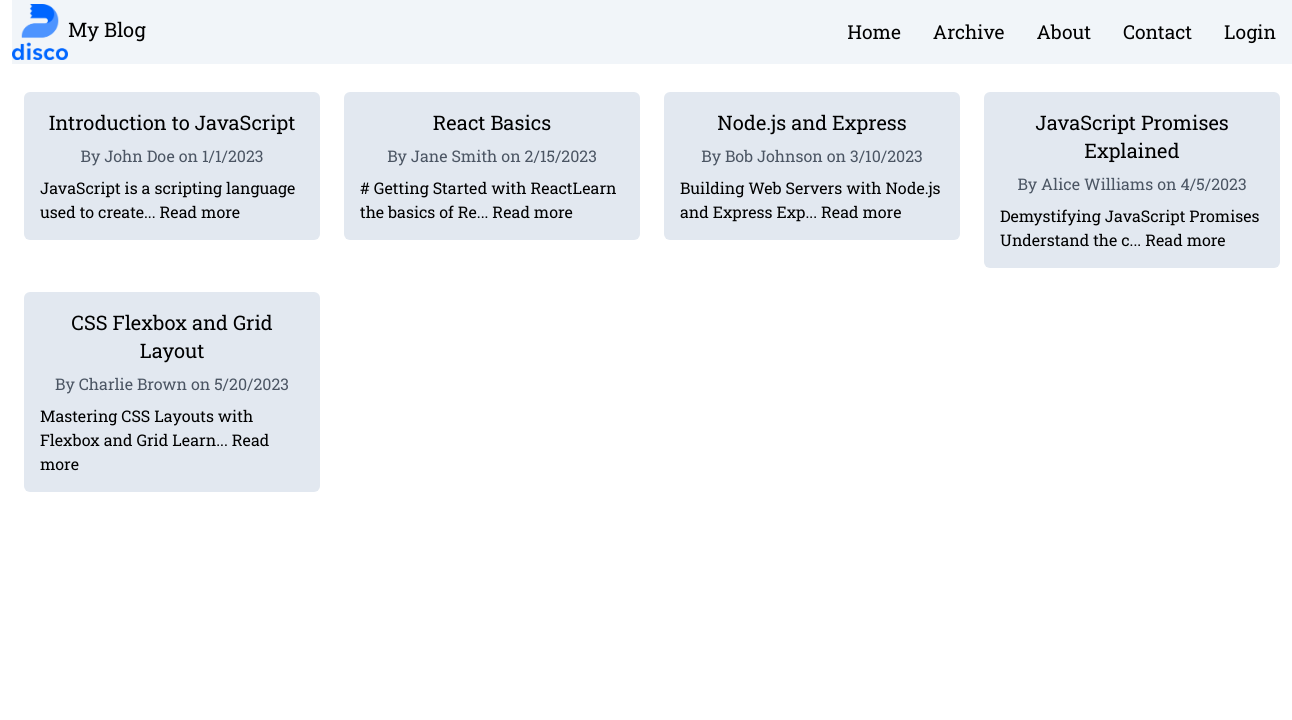
it: BlogDetails Component › loads and displays blog details
This screenshot has width=1292, height=720.
Click the link that starts with "React Basics" at (492, 180), box x1=344 y1=92 x2=640 y2=268
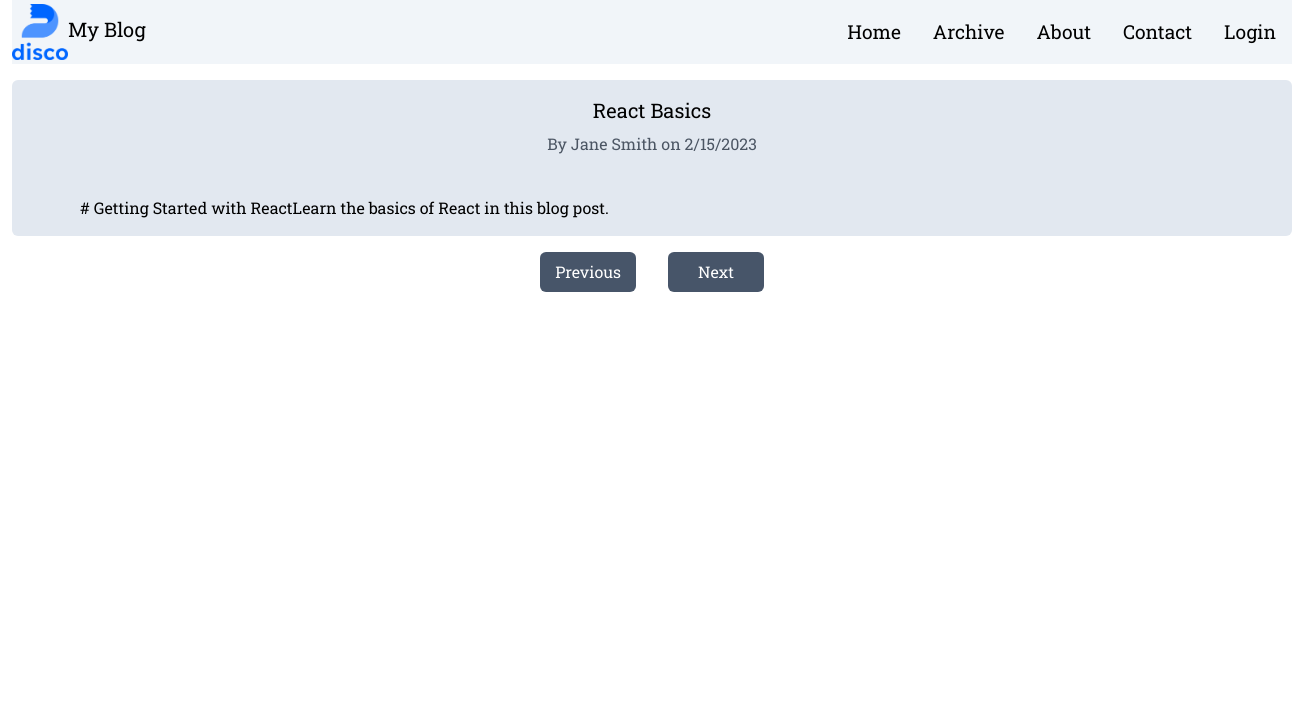
Expected: the button "Next" is shown, x1=668 y1=252 x2=764 y2=292
Expected: the button "Previous" is shown, x1=540 y1=252 x2=636 y2=292
Expected: the element showing "By Jane Smith on 2/15/2023" is shown, x1=547 y1=133 x2=757 y2=154
Open "http://localhost:5173"
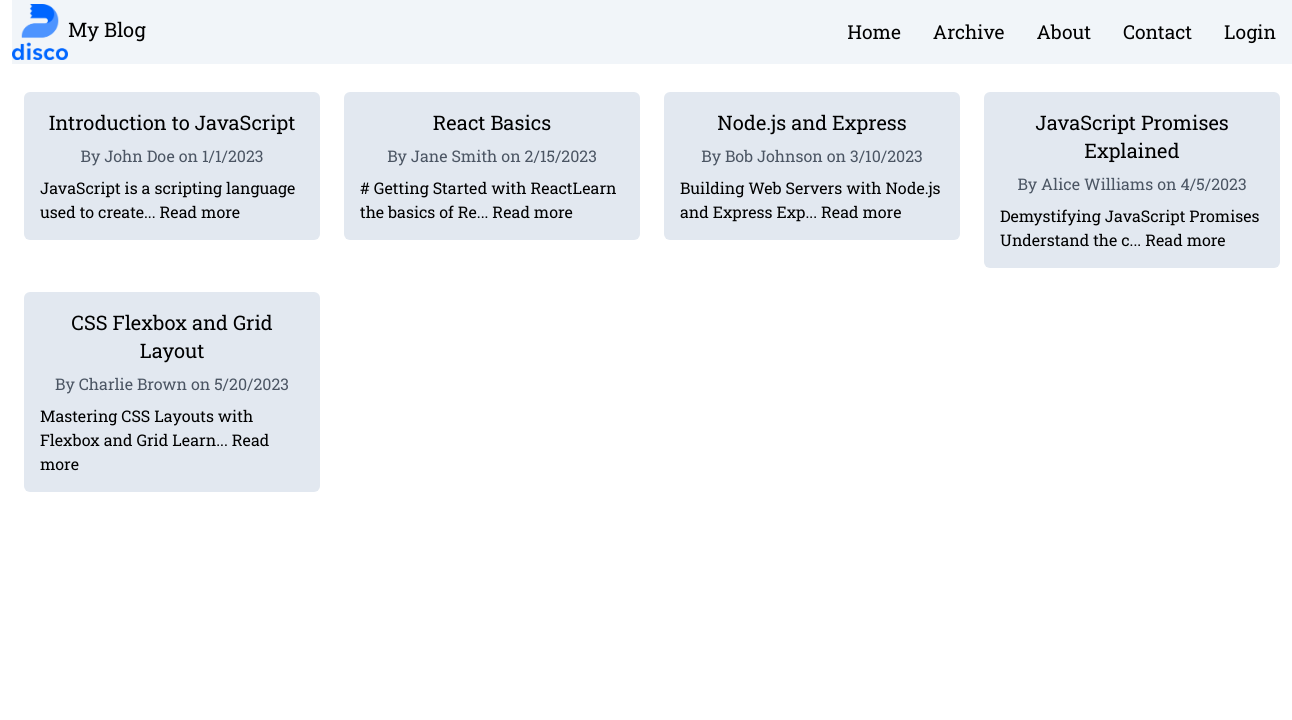
Click the link that starts with "Node.js and Express" at (812, 180), box x1=664 y1=92 x2=960 y2=268
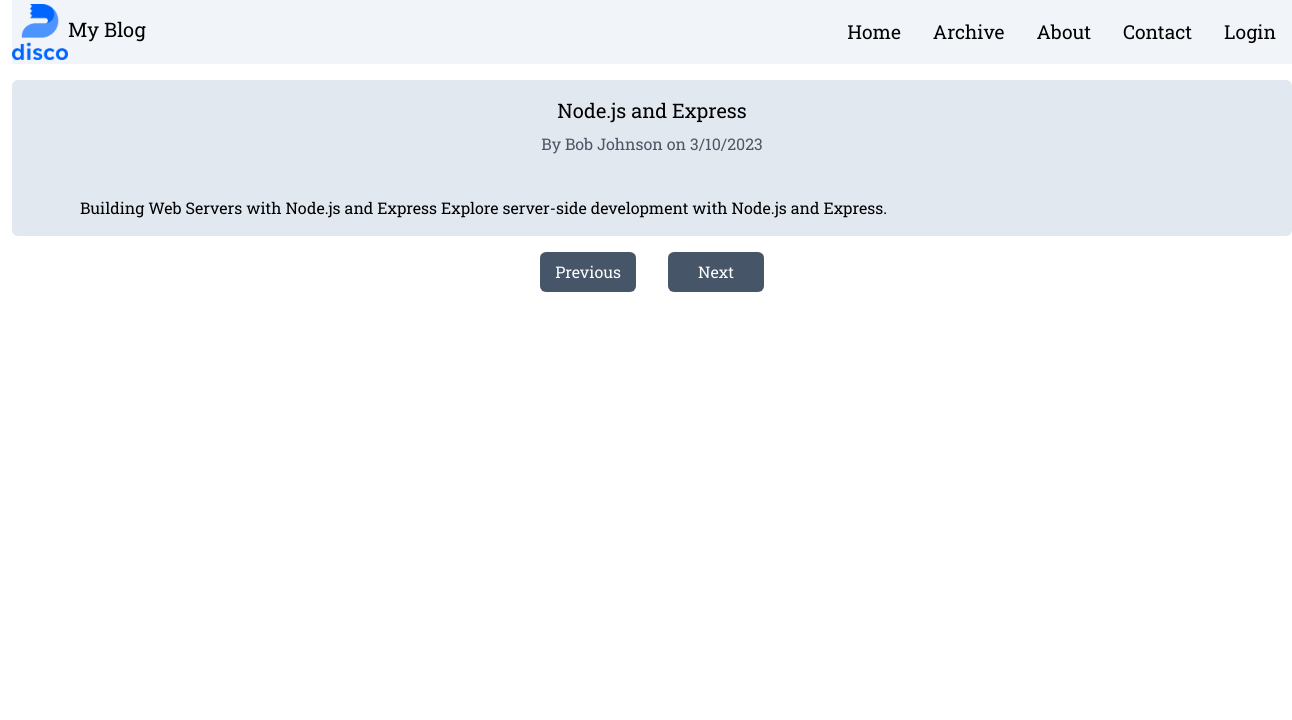
Expected: the button "Next" is shown, x1=668 y1=252 x2=764 y2=292
Expected: the button "Previous" is shown, x1=540 y1=252 x2=636 y2=292
Expected: the element showing "By Bob Johnson on 3/10/2023" is shown, x1=541 y1=133 x2=763 y2=154
Open "http://localhost:5173"
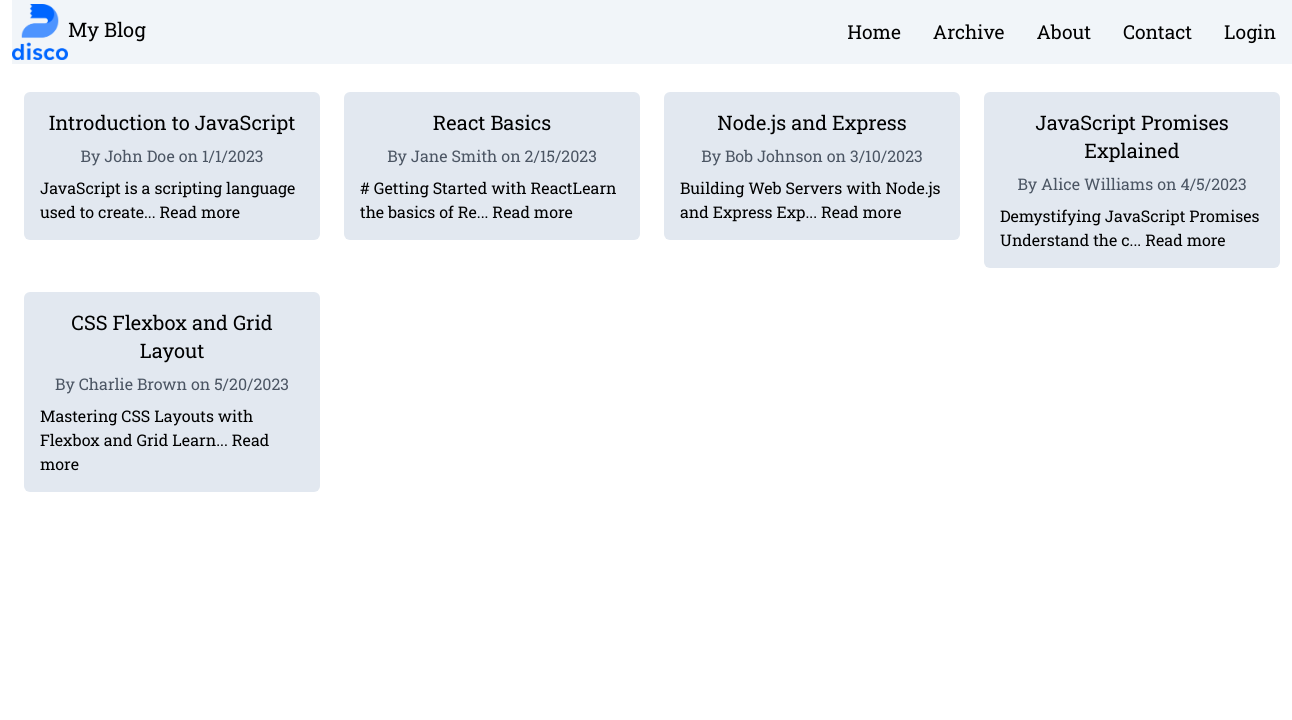
Click the link that starts with "JavaScript Promises Explained" at (1132, 180), box x1=984 y1=92 x2=1280 y2=268
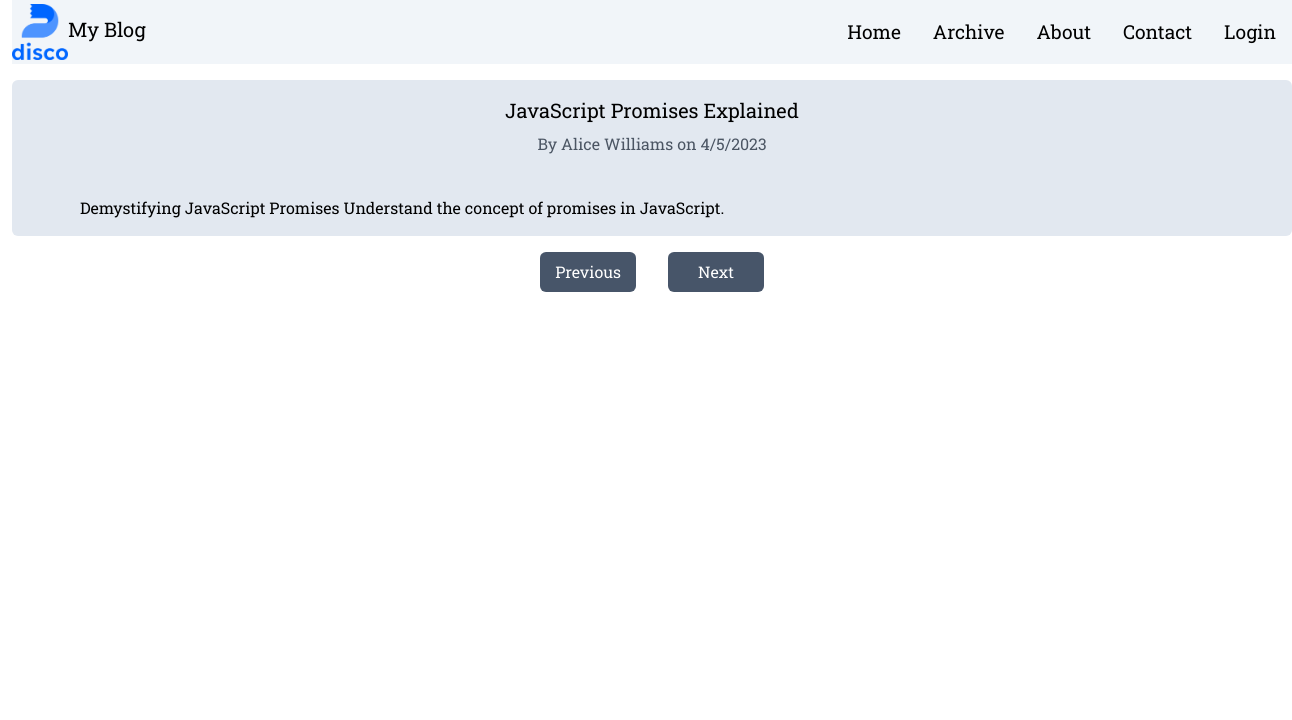
Expected: the button "Next" is shown, x1=668 y1=252 x2=764 y2=292
Expected: the button "Previous" is shown, x1=540 y1=252 x2=636 y2=292
Expected: the element showing "By Alice Williams on 4/5/2023" is shown, x1=537 y1=133 x2=766 y2=154
